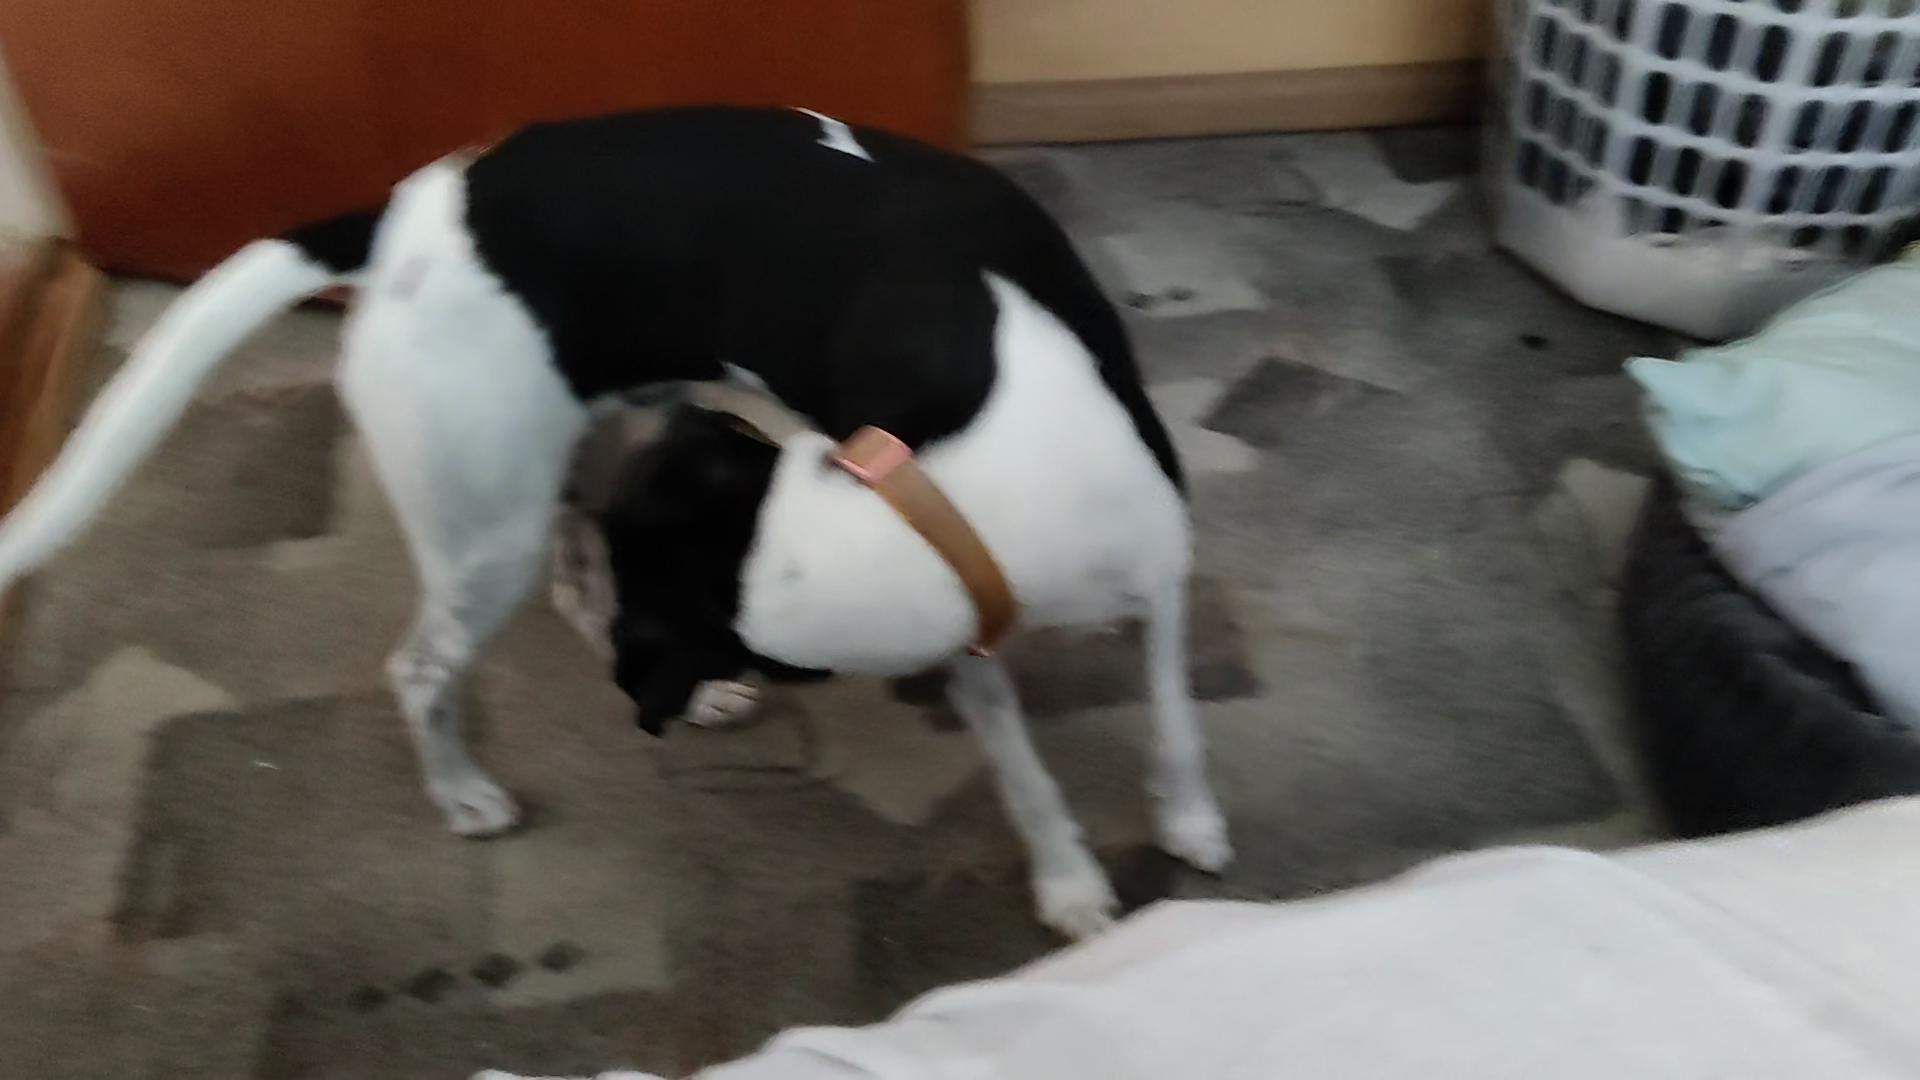Dog: (0, 98, 1249, 948)
